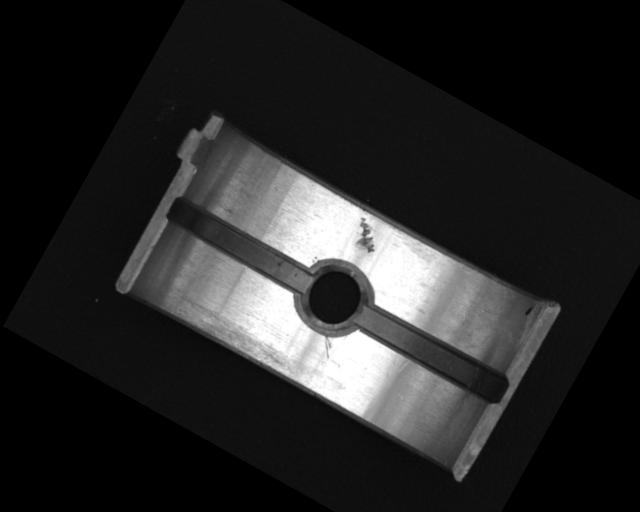blot: (521, 301, 537, 319)
bruise: (344, 214, 387, 259)
gap: (349, 298, 511, 407), (161, 193, 317, 298)
hole: (284, 250, 380, 346)
nick: (316, 333, 338, 358)
scratch: (161, 285, 303, 383)
